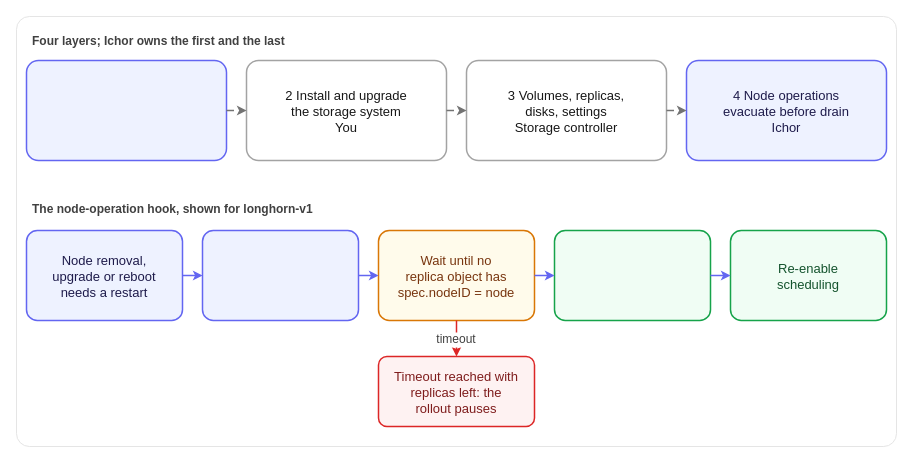
Image size: 913x463. Some labels were removed from this diagram. The shapes that lost their labels are listed below. From the top down, each one's centre as x and y in pixels, then its label:
point 126,110: 1 Talos preparation volumes, extensions, modules, sysctls Ichor
point 280,275: Set allowScheduling false first, then evictionRequested
point 632,275: Drain, then operate on the node
